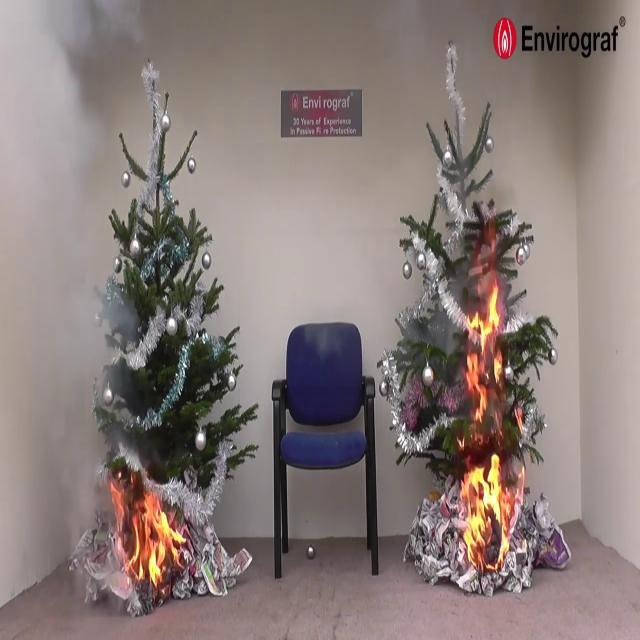Fire: (457, 279, 517, 571), (108, 471, 184, 591)
Smoke: (0, 4, 124, 632)
